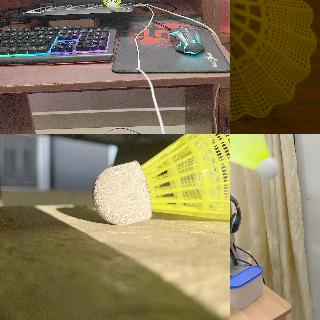shuttlecock: (92, 134, 229, 226), (230, 0, 317, 121), (230, 134, 280, 179), (101, 0, 121, 12)
